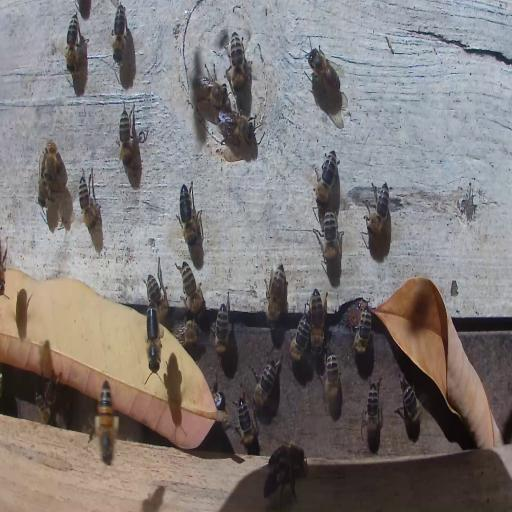nonpollenbee: (262, 463, 308, 504), (306, 46, 341, 97), (177, 180, 203, 247), (319, 204, 343, 273), (76, 172, 101, 233), (313, 149, 339, 207), (264, 261, 288, 322), (365, 180, 391, 236), (250, 358, 278, 408), (178, 262, 204, 315), (192, 72, 228, 110), (398, 377, 423, 431), (220, 110, 257, 145), (228, 31, 248, 95), (235, 397, 258, 452), (323, 350, 343, 412), (36, 147, 56, 209), (364, 375, 382, 441), (288, 308, 310, 362), (268, 442, 306, 472), (353, 304, 373, 360), (310, 286, 325, 359), (146, 268, 167, 318), (118, 106, 133, 172), (64, 13, 80, 74), (112, 3, 126, 64), (213, 302, 229, 353), (34, 384, 53, 424), (210, 376, 226, 412), (180, 318, 200, 346), (44, 379, 58, 404)
pollenbee: (94, 377, 120, 467), (142, 301, 165, 375)
